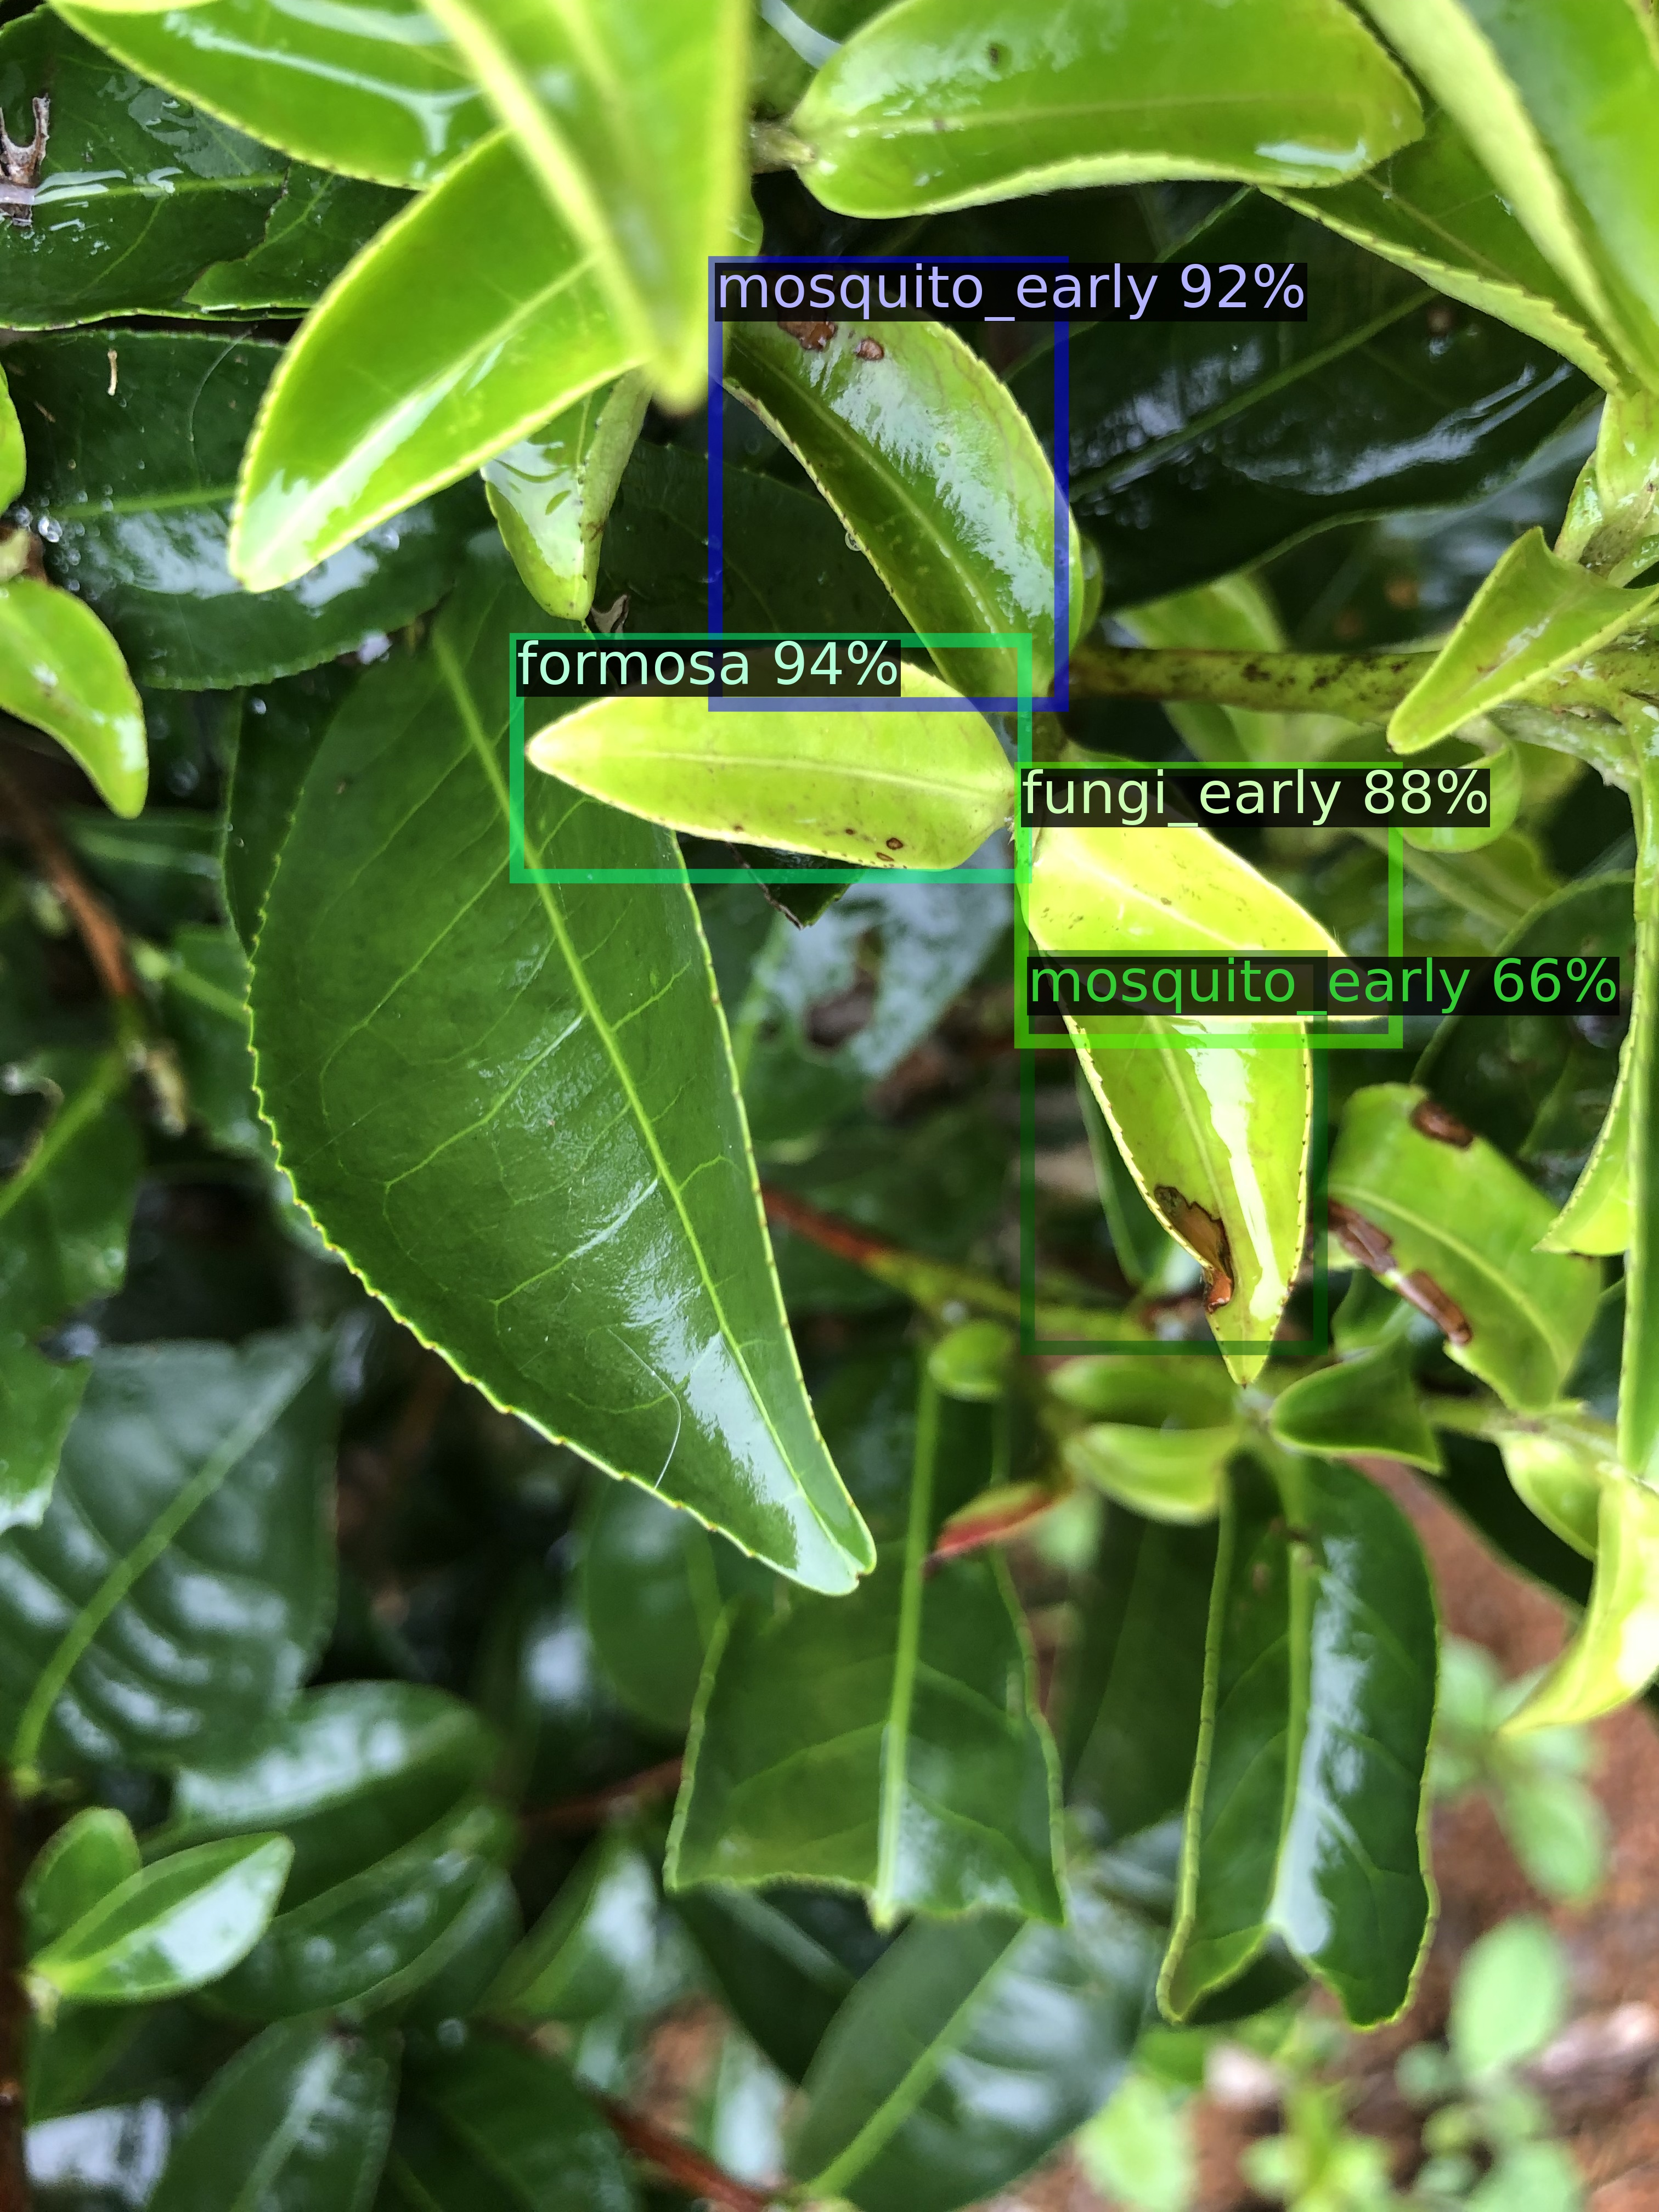formosa: (518, 641, 1025, 876)
fungi_early: (1021, 770, 1396, 1042)
mosquito_early: (716, 263, 1061, 704), (1026, 956, 1321, 1348)
